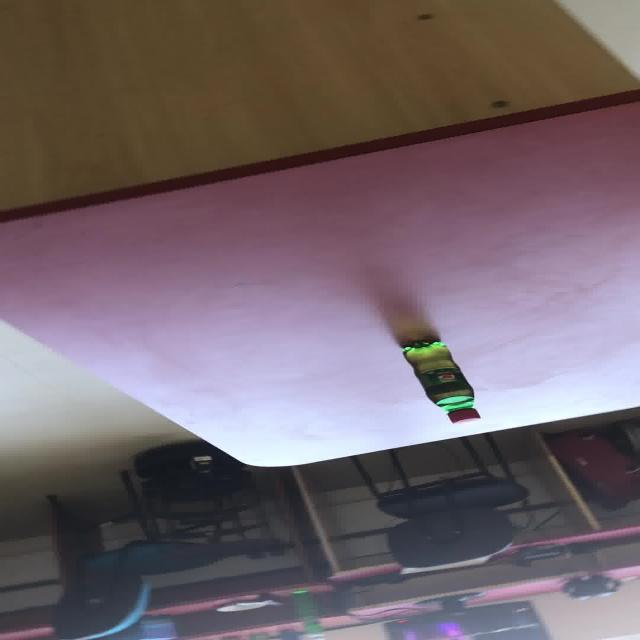guarana: (399, 339, 480, 423)
